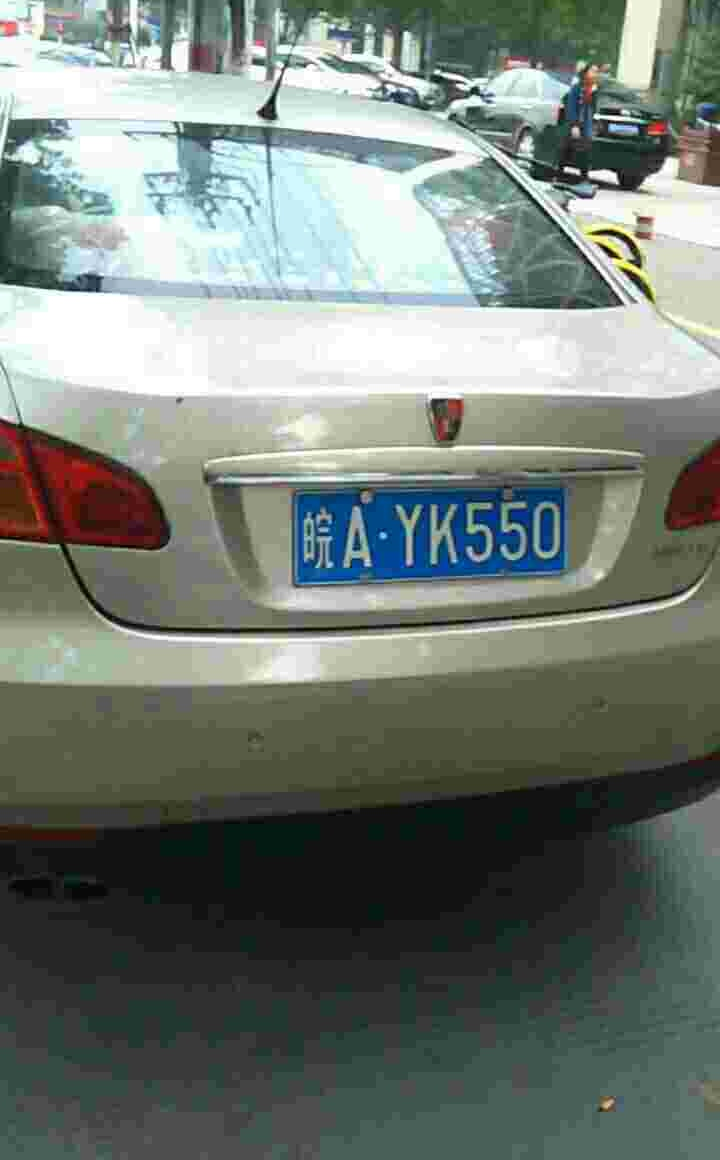license_plate: (283, 489, 581, 588)
